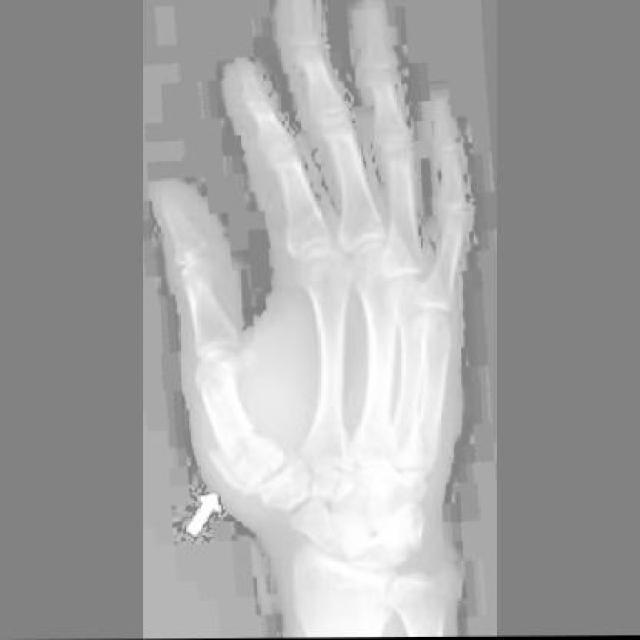Fracture: (205, 426, 284, 499)
